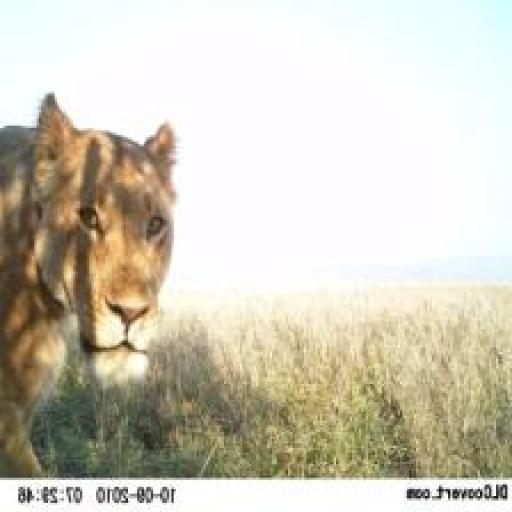lion: (2, 73, 197, 478)
